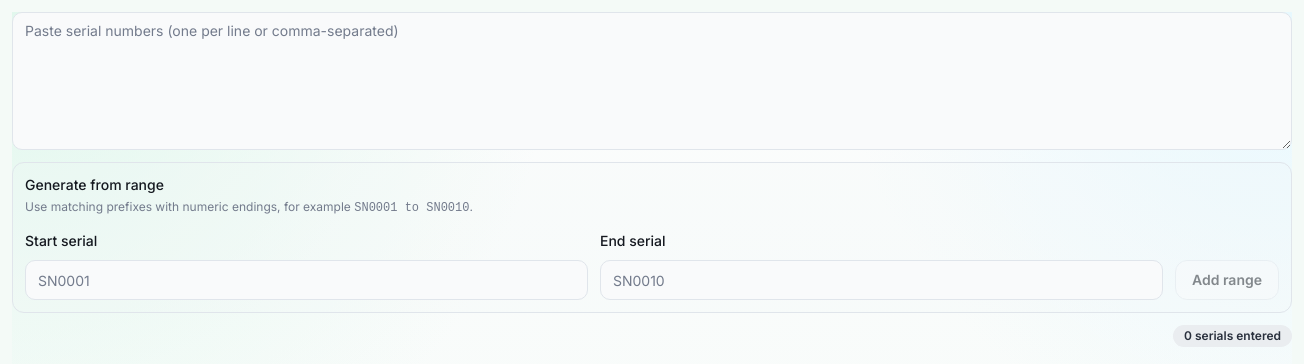
Test case: SerialInputList › preserves comma separators while typing serials one by one
Type "SN0001," into the text box with placeholder "Paste serial numbers (one per line or comma-separated)" at point(652, 81), box [12,12,1292,150]
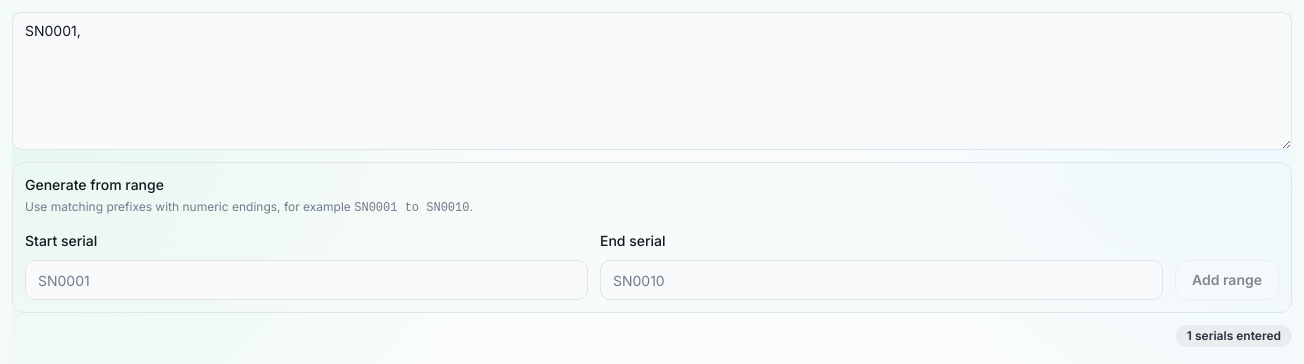
Replace the text in the text box with placeholder "Paste serial numbers (one per line or comma-separated)" with "SN0001,SN0002" at point(652, 81), box [12,12,1292,150]
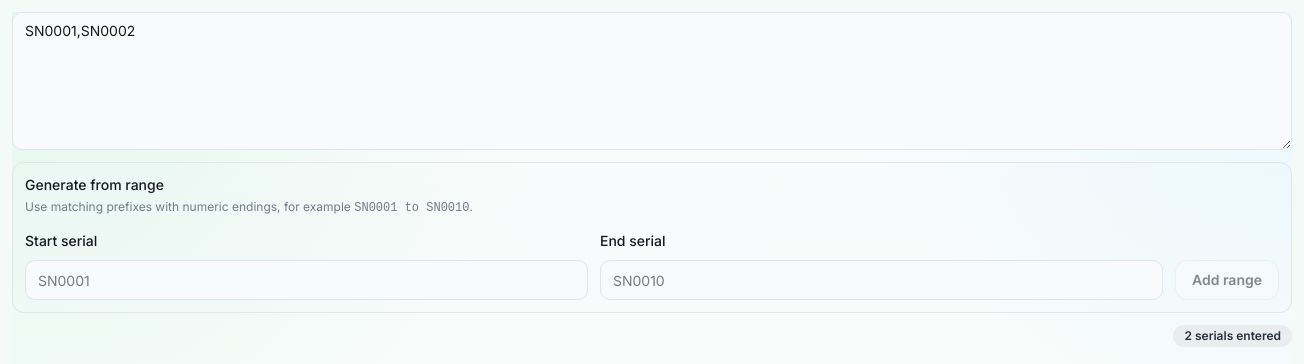
Expected: the text "2 serials entered" is shown, [1173,325,1292,347]
